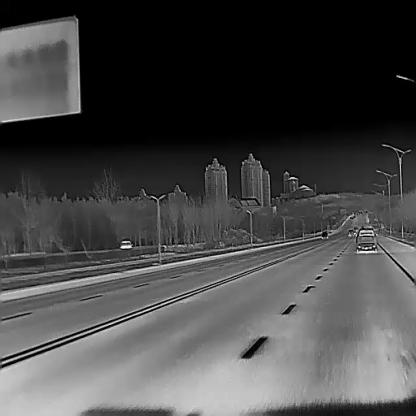car: (356, 227, 377, 251), (119, 240, 132, 249), (347, 228, 354, 236), (321, 230, 328, 237)
